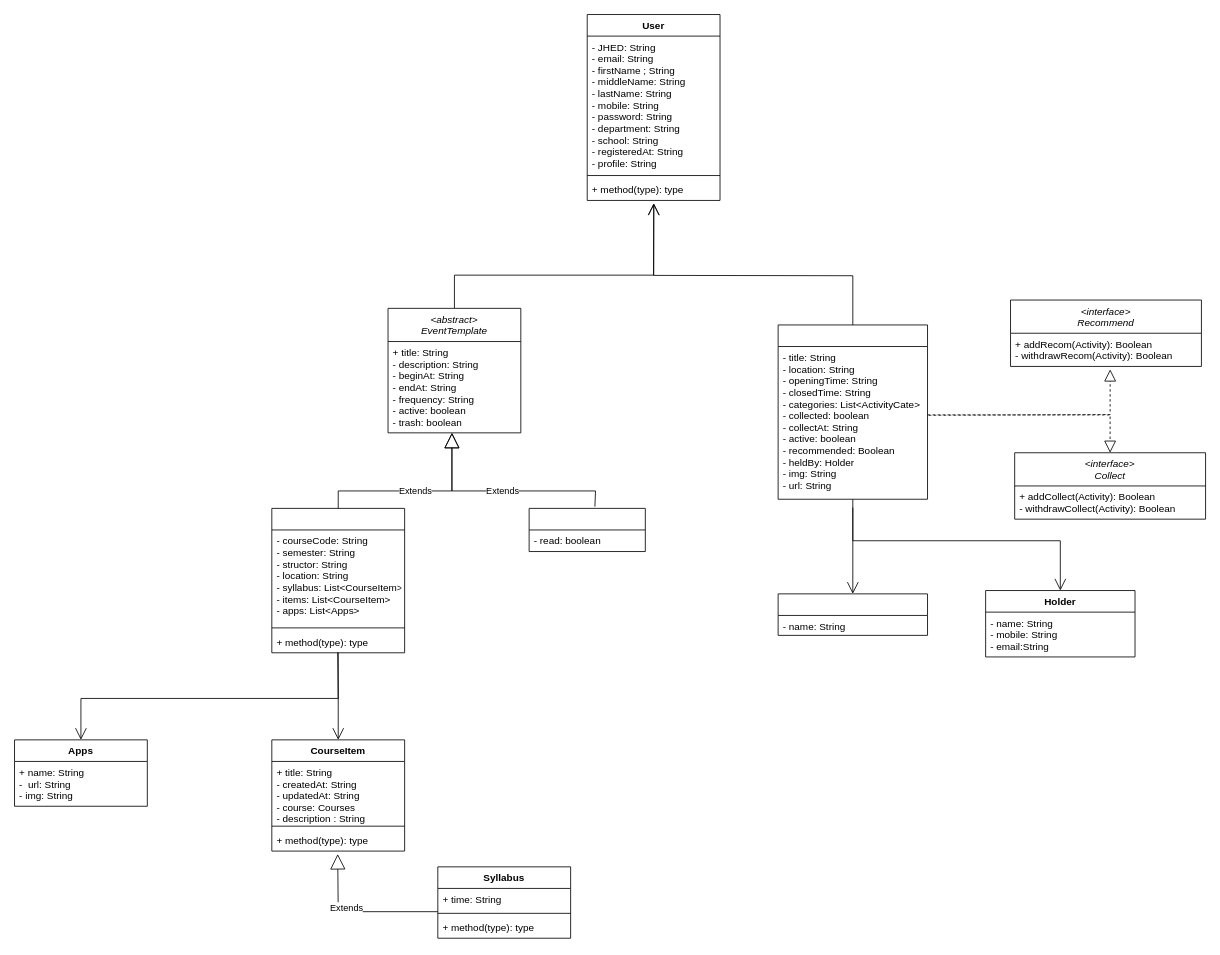
Image size: 1220x955. Some labels were removed from this diagram. The shapes that lost their labels are listed below. From the top down, each one's box as (x1, y1, x2, y2) in pixels, then its label:
(777, 324, 928, 499): Activity
(528, 508, 645, 552): Reminder
(271, 508, 405, 653): Courses
(777, 593, 928, 635): ActivityCate
